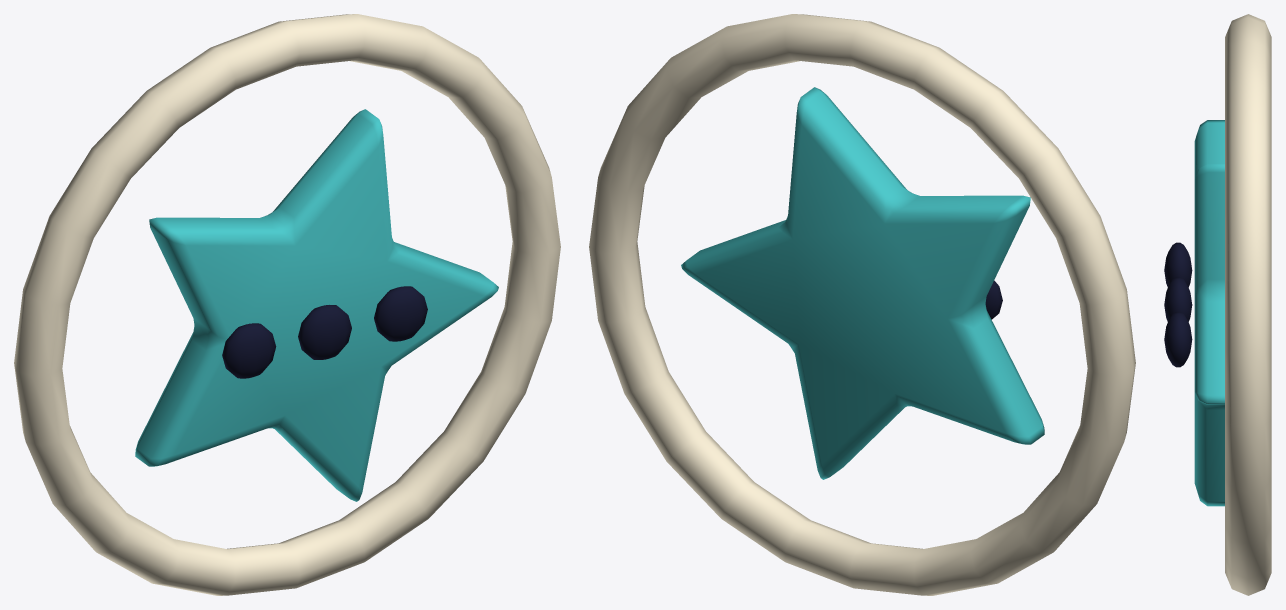
File: r062_dungeon_puzzle_symbols_symbol_09.glb
3 views of the same model, side by side, from view 1: azimuth 30°, elevation 25°; view 2: azimuth 150°, elevation 25°; view 3: azimuth 270°, elevation 25° (orthographic). The views are drawn at different scales.
Parts seen in each view (by area): view 1: r062_dungeon_puzzle_symbols_symbol_09.001; view 2: r062_dungeon_puzzle_symbols_symbol_09.001; view 3: r062_dungeon_puzzle_symbols_symbol_09.001.
Part boxes in pixels (<box>): r062_dungeon_puzzle_symbols_symbol_09.001: <box>14,14,560,595</box>; r062_dungeon_puzzle_symbols_symbol_09.001: <box>589,14,1135,595</box>; r062_dungeon_puzzle_symbols_symbol_09.001: <box>1164,14,1271,595</box>.
Bounding box in the file's own units: 2.5 × 2.5 × 0.46.
